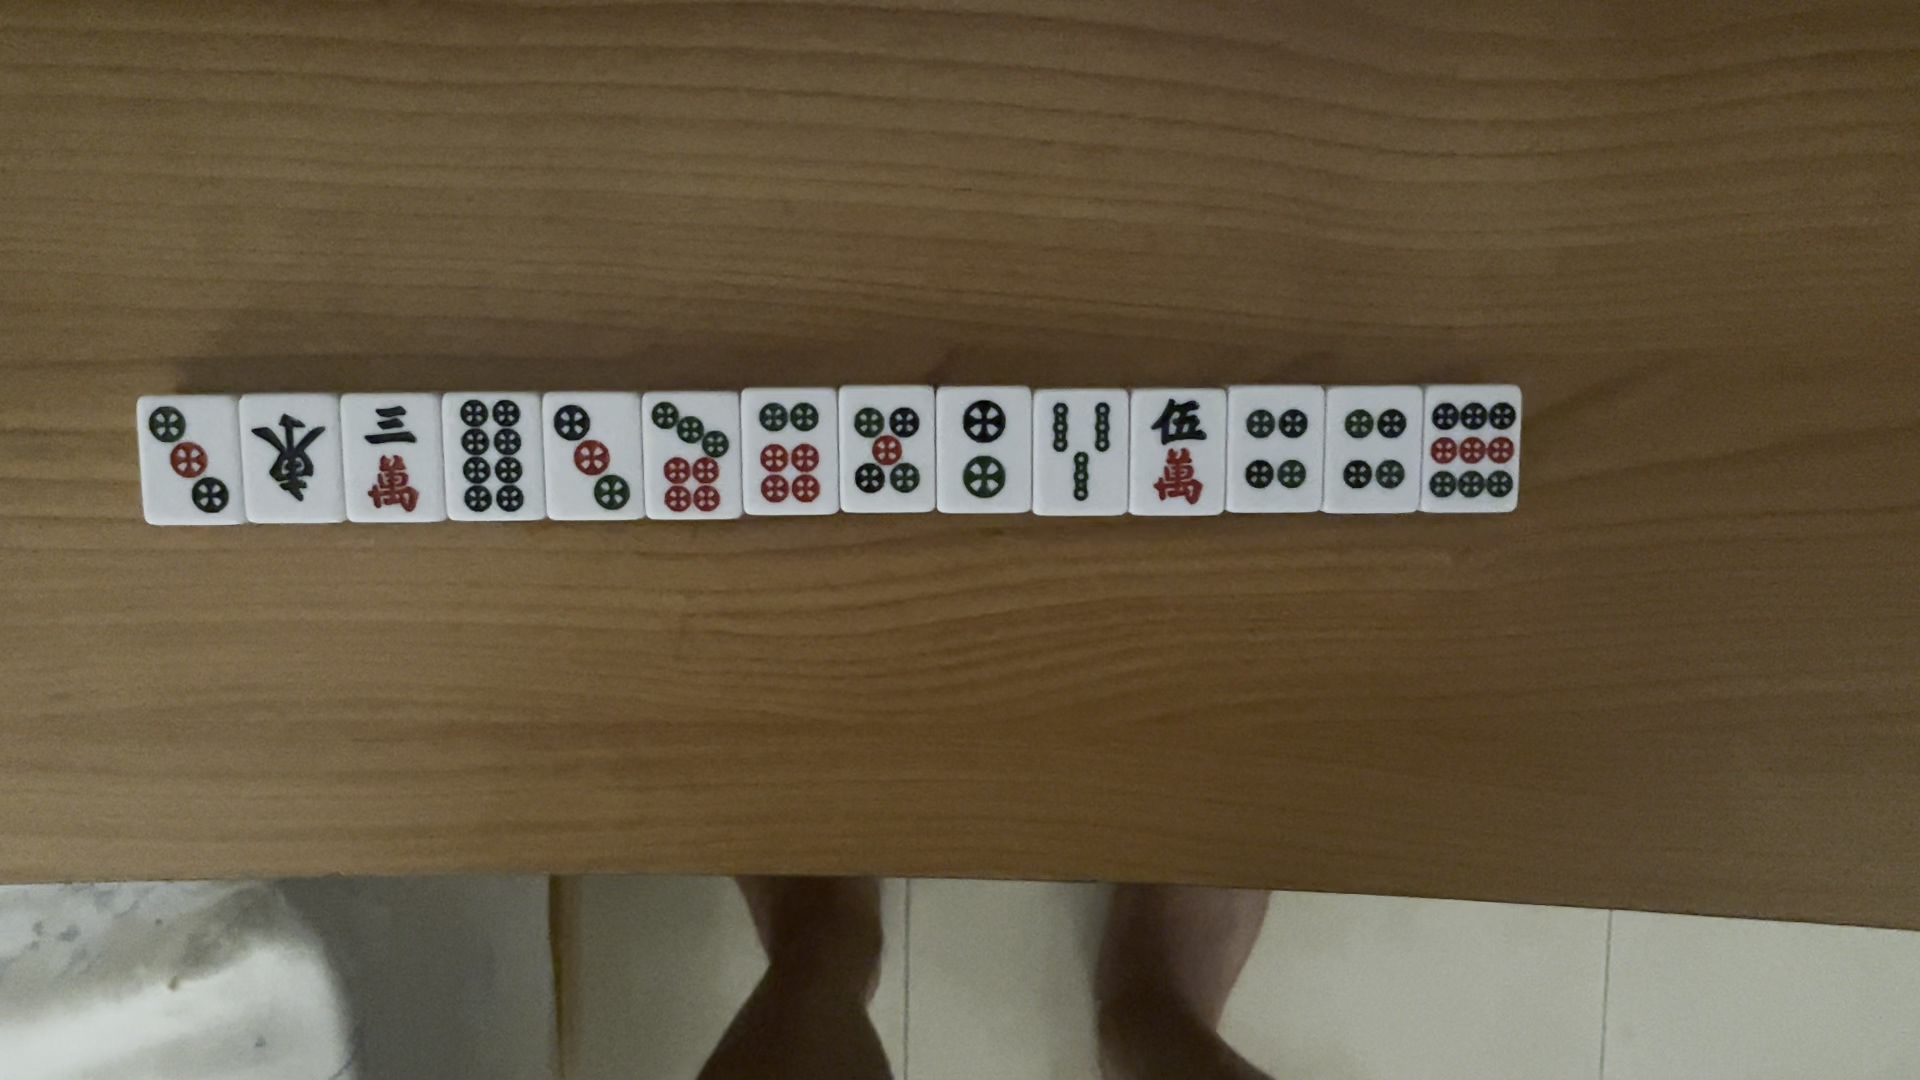b-3: (1040, 398, 1116, 505)
c-3: (355, 401, 431, 521)
c-5: (1149, 396, 1211, 508)
d-2: (957, 396, 1010, 504)
d-3: (144, 398, 229, 518), (551, 404, 629, 518)
d-4: (1338, 401, 1415, 502), (1232, 401, 1312, 491)
d-5: (849, 401, 924, 502)
d-6: (749, 400, 825, 509)
d-7: (645, 401, 733, 514)
d-8: (455, 400, 533, 517)
d-9: (1425, 400, 1519, 508)
honors-east: (255, 407, 331, 516)
